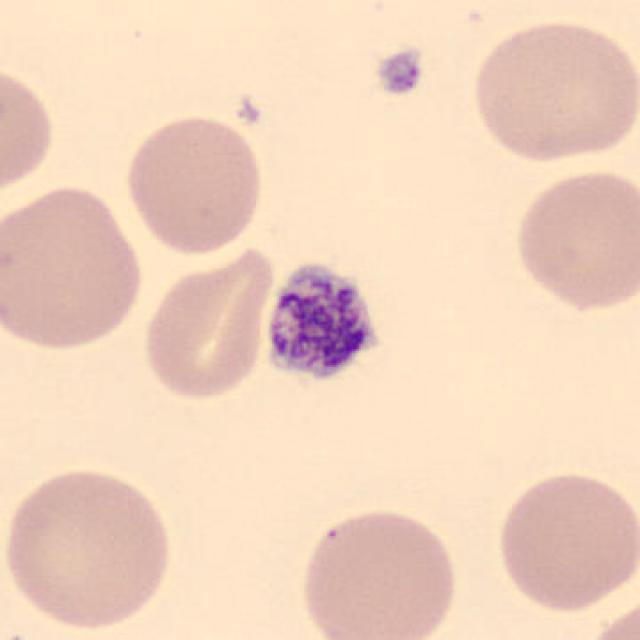Platelets: (258, 256, 388, 395), (372, 46, 426, 100)
RBC: (0, 462, 180, 633), (466, 14, 638, 166), (0, 179, 149, 354), (295, 502, 462, 640), (137, 242, 277, 406), (119, 110, 269, 258), (491, 466, 636, 614), (508, 164, 638, 316), (0, 58, 59, 205), (579, 592, 640, 639)
